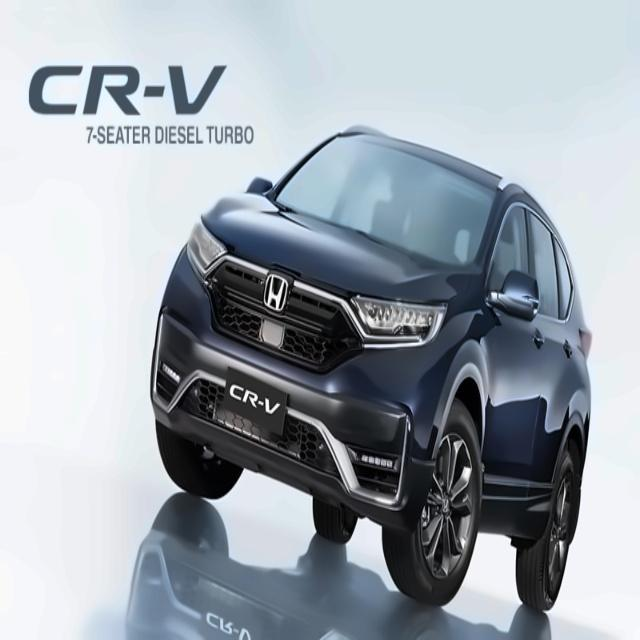Car hood: (200, 189, 475, 308)
Fender - -F-L-: (435, 273, 493, 479)
Front bumper: (140, 303, 434, 541)
Headlight - -L-: (343, 286, 452, 353)
Headlight - -R-: (175, 210, 233, 288)
Passenger-s door - -F-L-: (488, 196, 551, 510)
Passenger-s door - -R-L-: (545, 225, 589, 506)
Rear light - -L-: (574, 313, 601, 361)
Side bumper - -L-: (471, 466, 560, 542)
Side mirror - -L-: (478, 263, 549, 323)
Side mirror - -R-: (241, 169, 281, 203)
